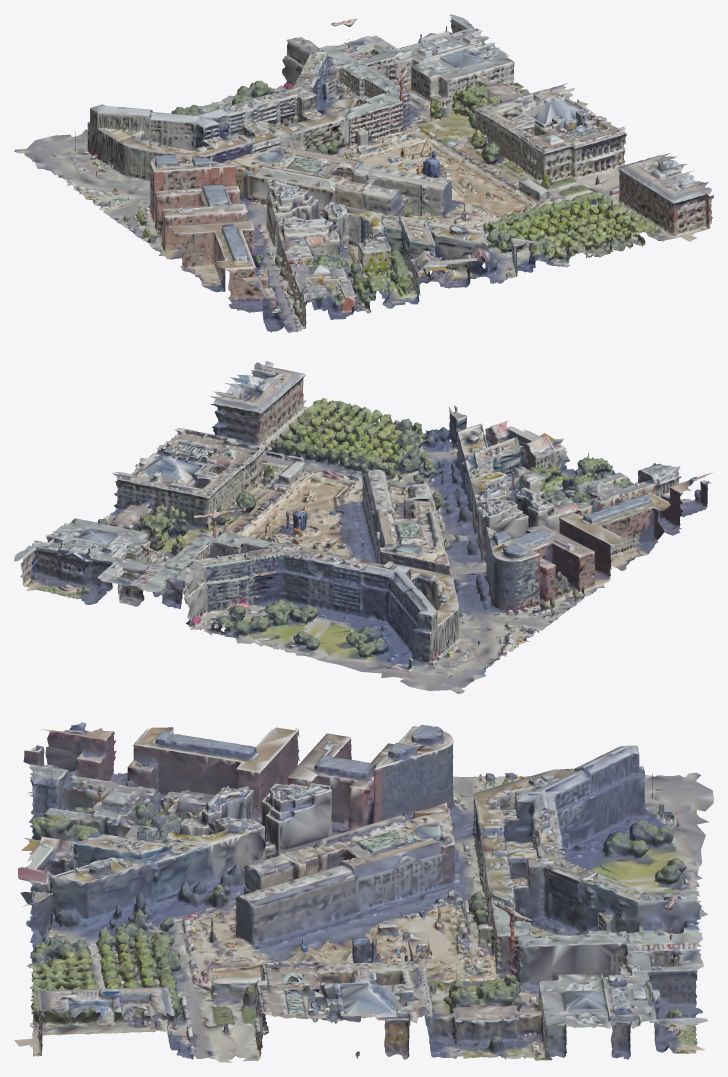
The model's file is surface-detail-3898_58185.glb.
3 renders of one model, top to bottom at view 1: azimuth 30°, elevation 25°; view 2: azimuth 150°, elevation 25°; view 3: azimuth 270°, elevation 25°, orthographic. The views are drawn at different scales.
Visible parts, largest first — view 1: world; view 2: world; view 3: world.
Boxes of the visible parts, <box> form: world: <box>14,14,713,332</box>; world: <box>14,361,713,693</box>; world: <box>14,722,713,1062</box>.
Bounding box in the file's own units: 380 × 53.78 × 381.
